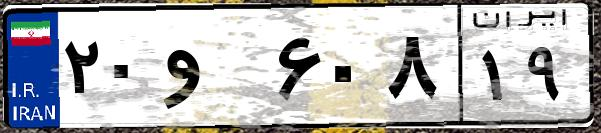0: (330, 28, 385, 110), (110, 28, 158, 98)
1: (475, 38, 525, 113)
2: (57, 26, 110, 100)
6: (270, 28, 330, 110)
8: (385, 28, 445, 110)
9: (525, 38, 570, 115)
و: (158, 20, 270, 120)
